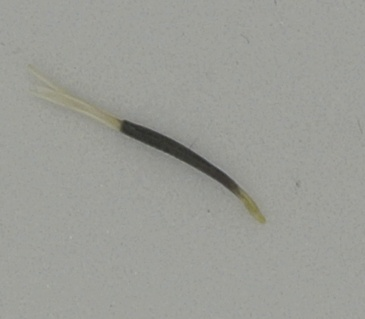เมล็ดดีเรียวยาว: (24, 63, 267, 223)
